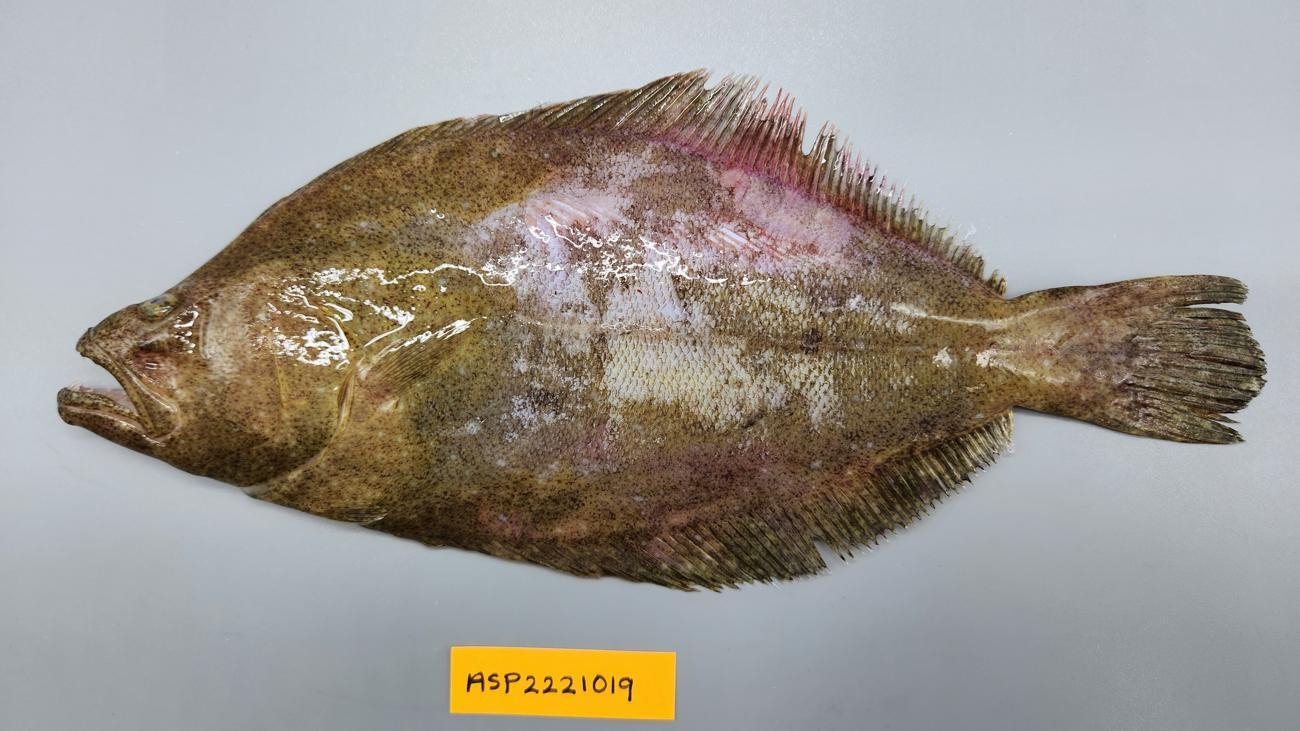SPDYH: (382, 395, 1014, 539), (743, 277, 1143, 432)
SPOUY: (46, 53, 1267, 597)
